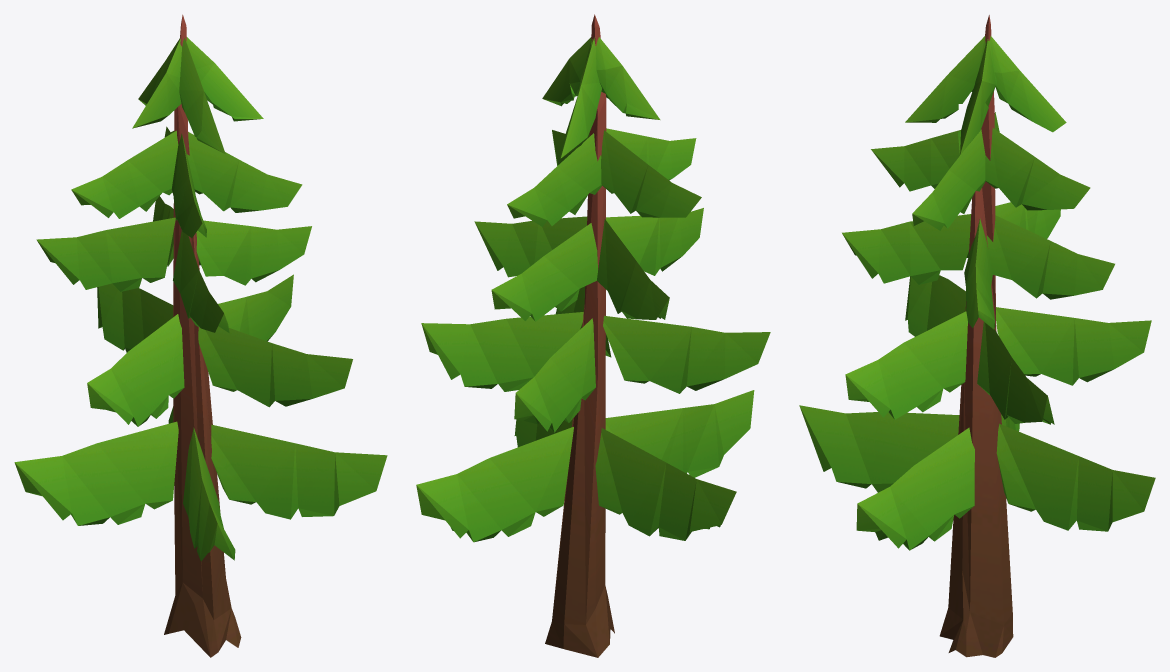
3 renders of one model, left to right at view 1: azimuth 30°, elevation 25°; view 2: azimuth 150°, elevation 25°; view 3: azimuth 270°, elevation 25°, orthographic. The views are drawn at different scales.
Parts seen in each view (by area): view 1: Conifer2_Distant; view 2: Conifer2_Distant; view 3: Conifer2_Distant.
Part boxes in pixels (x1,y1,x2,y2): Conifer2_Distant: (14, 14, 387, 657); Conifer2_Distant: (416, 14, 770, 657); Conifer2_Distant: (799, 15, 1155, 657).
Size of the model in its own units: 246 by 500 by 259.
1 material, 1 textured.
